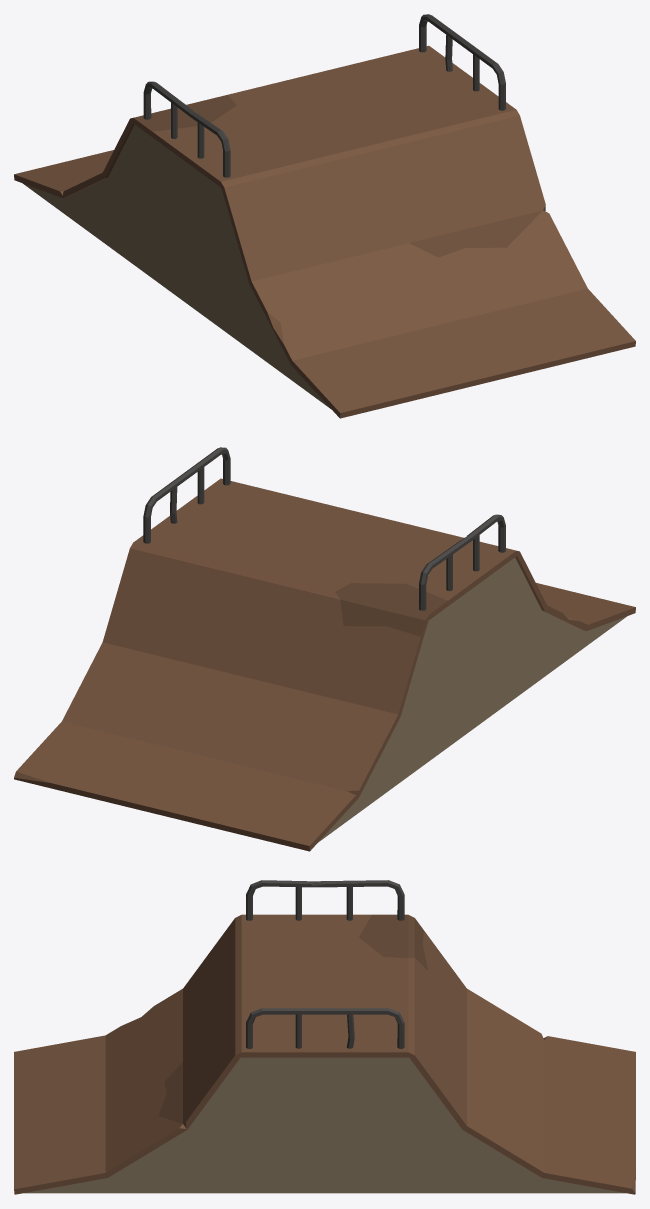
The model's file is SM_Props_City_PlayGround_Skatepark_Wood_Spine.fbx.
The picture shows the model from 3 angles, top to bottom: view 1: azimuth 30°, elevation 25°; view 2: azimuth 150°, elevation 25°; view 3: azimuth 270°, elevation 25°; orthographic projection. The views are drawn at different scales.
Parts seen in each view (by area): view 1: SM_Props_City_PlayGround_Skatepark_Wood_Spine; view 2: SM_Props_City_PlayGround_Skatepark_Wood_Spine; view 3: SM_Props_City_PlayGround_Skatepark_Wood_Spine.
Boxes of the visible parts, x1,y1,x2,y2 form: SM_Props_City_PlayGround_Skatepark_Wood_Spine: (14, 14, 635, 418); SM_Props_City_PlayGround_Skatepark_Wood_Spine: (14, 447, 635, 851); SM_Props_City_PlayGround_Skatepark_Wood_Spine: (14, 880, 635, 1194).
Size of the model in its own units: 408 by 252 by 780.
